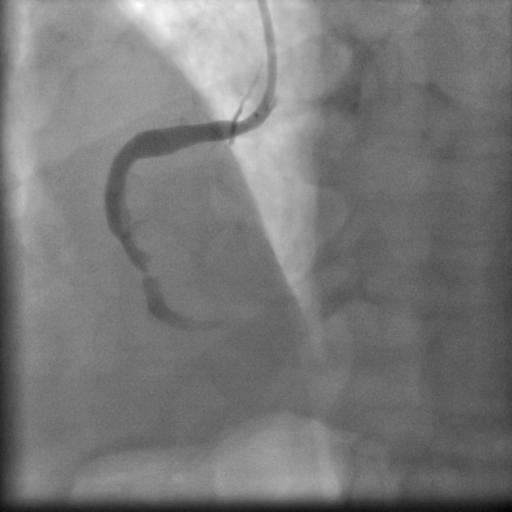Stenosis: (132, 256, 157, 283)
